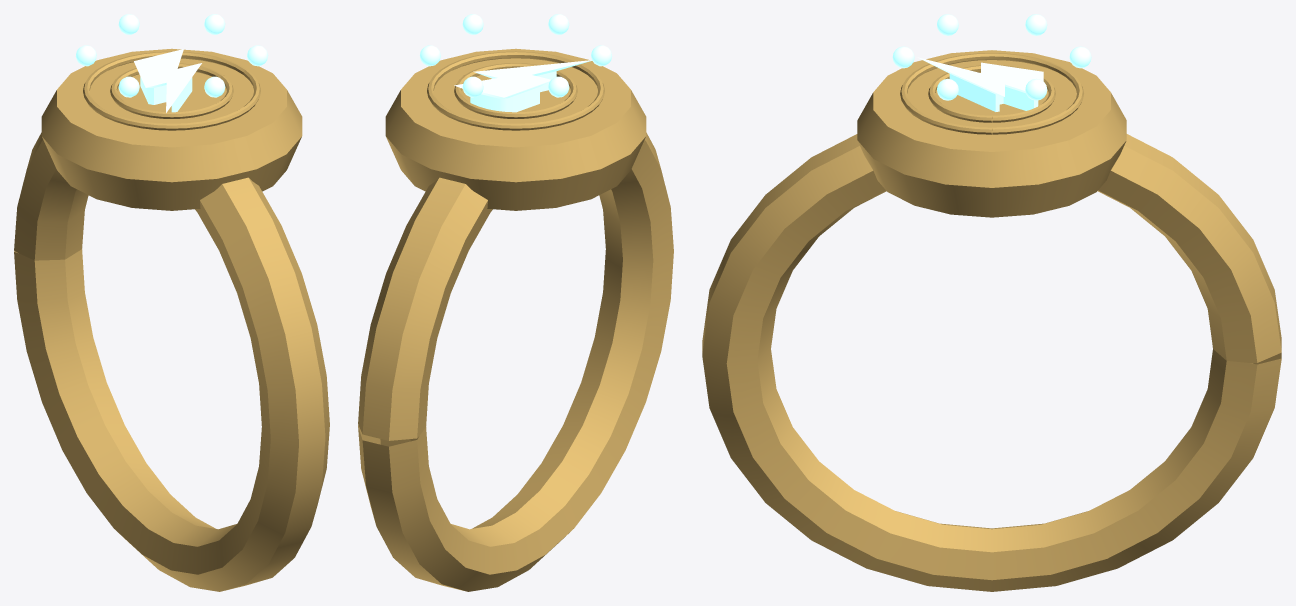
File: boss_thunder_abbot_accessory_1.glb
The picture shows the model from 3 angles, left to right: view 1: azimuth 30°, elevation 25°; view 2: azimuth 150°, elevation 25°; view 3: azimuth 270°, elevation 25°; orthographic projection. The views are drawn at different scales.
Parts seen in each view (by area): view 1: boss_thunder_abbot_accessory_1; view 2: boss_thunder_abbot_accessory_1; view 3: boss_thunder_abbot_accessory_1.
Boxes of the visible parts, box(x1,y1,x2,y2) form: boss_thunder_abbot_accessory_1: box(14, 14, 329, 591); boss_thunder_abbot_accessory_1: box(358, 14, 673, 591); boss_thunder_abbot_accessory_1: box(702, 14, 1281, 591).
Bounding box in the file's own units: 0.068 × 0.1476 × 0.1442.
